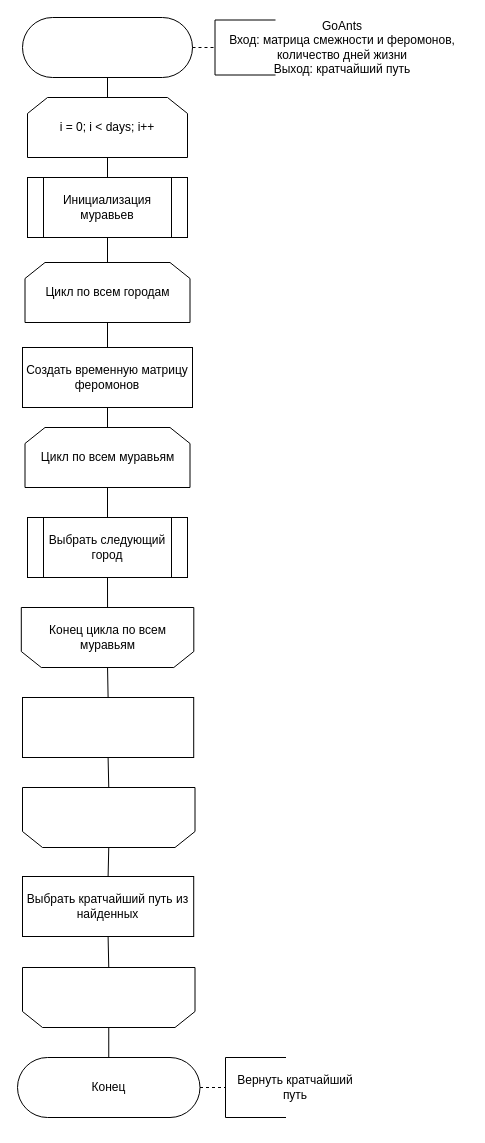
Image size: 485x1143. Some labels were removed from this diagram. Here are the shapes that lost their labels. From the top down, the centre of each, then its label:
the point at 107,47: Начало
the point at 108,727: Испарить все феромоны
the point at 108,817: Конец цикла по всем городам
the point at 108,997: Конец цикла по i
